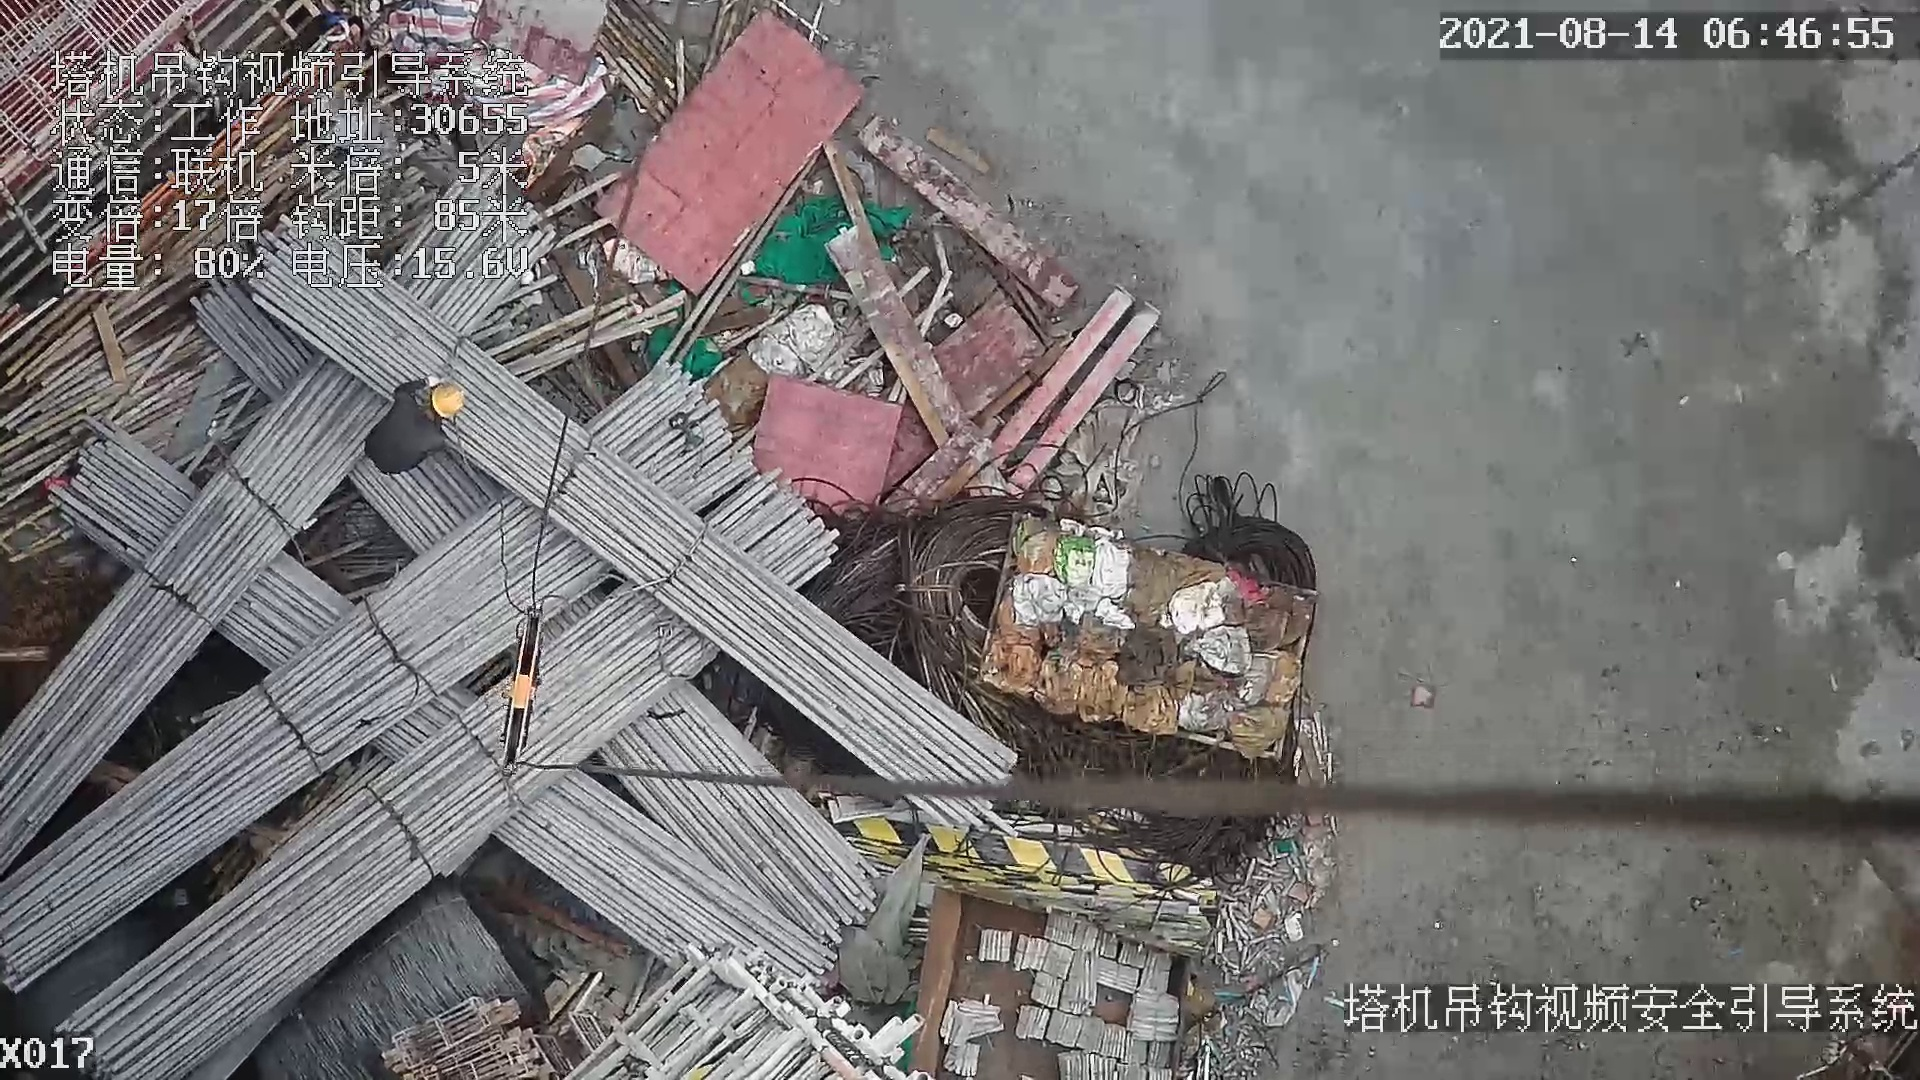board: (592, 5, 856, 300)
helmet: (432, 378, 460, 423)
hook: (496, 609, 550, 782)
person: (350, 371, 465, 473)
